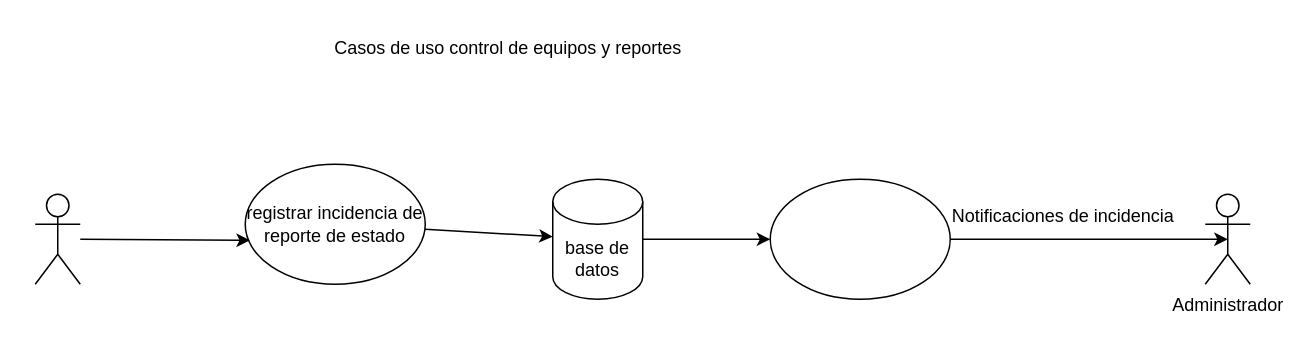
Image size: 1310x341. Some labels were removed from this diagram. The centre of each missing label's shape, as x and y in pixels:
"Maestro" belongs at [57,238].
"notificacion de incidencia" belongs at [859,238].
